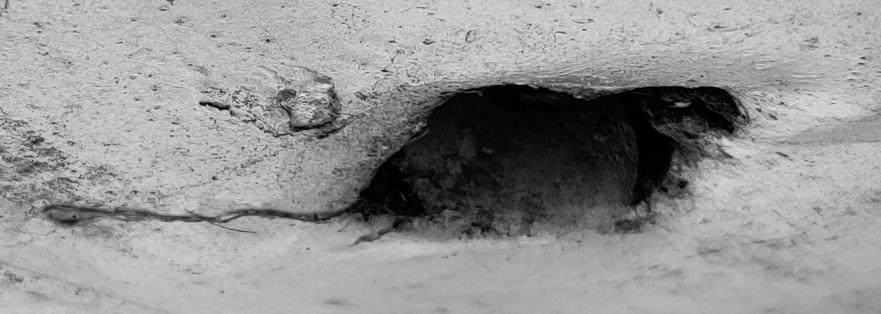crack: (1, 0, 881, 314)
